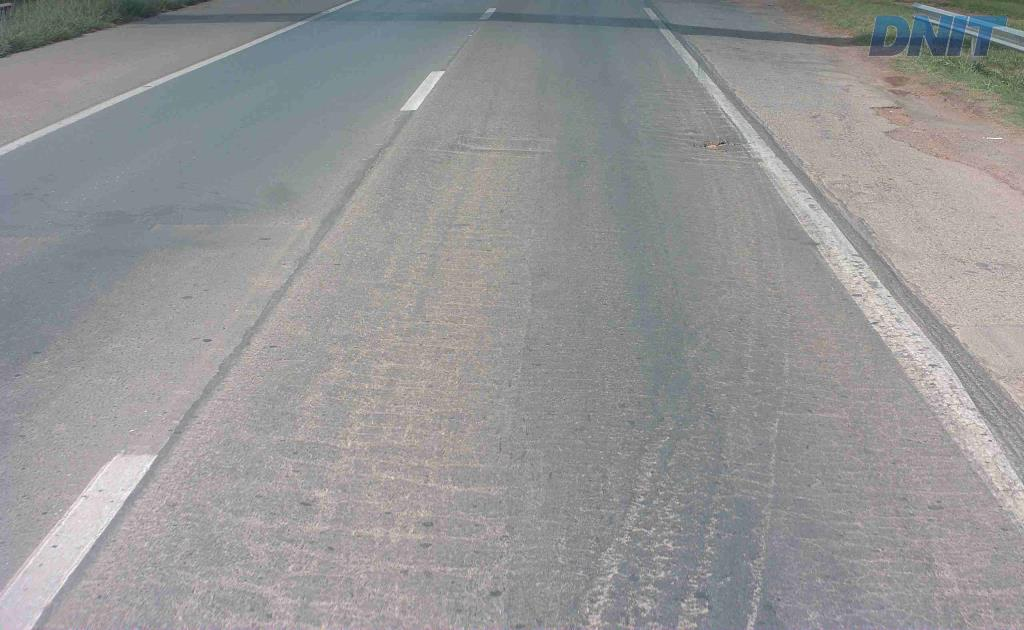pothole: (691, 133, 734, 153)
